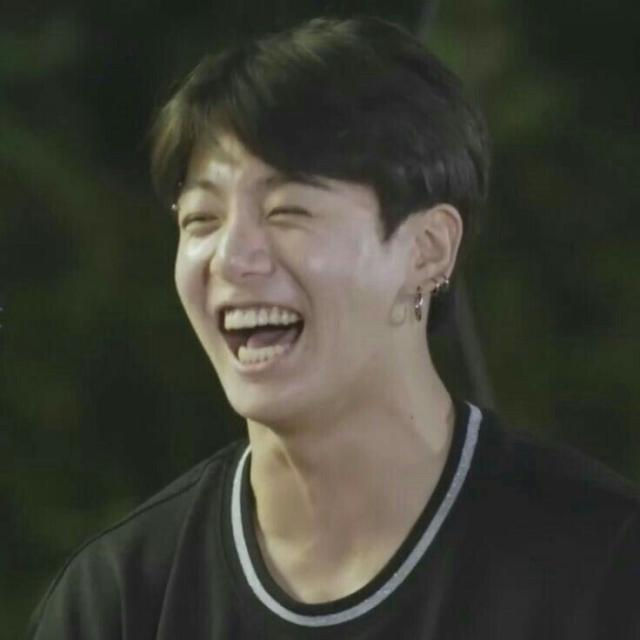sem_oculos: (161, 181, 478, 249)
